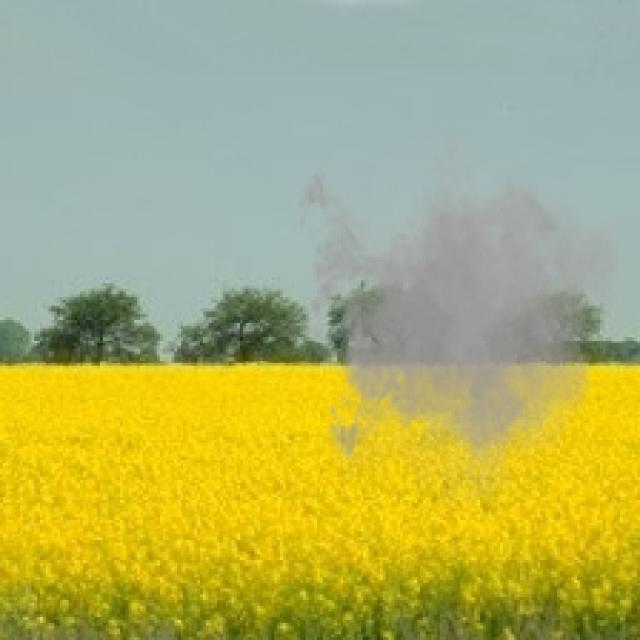smoke: (286, 108, 628, 523)
